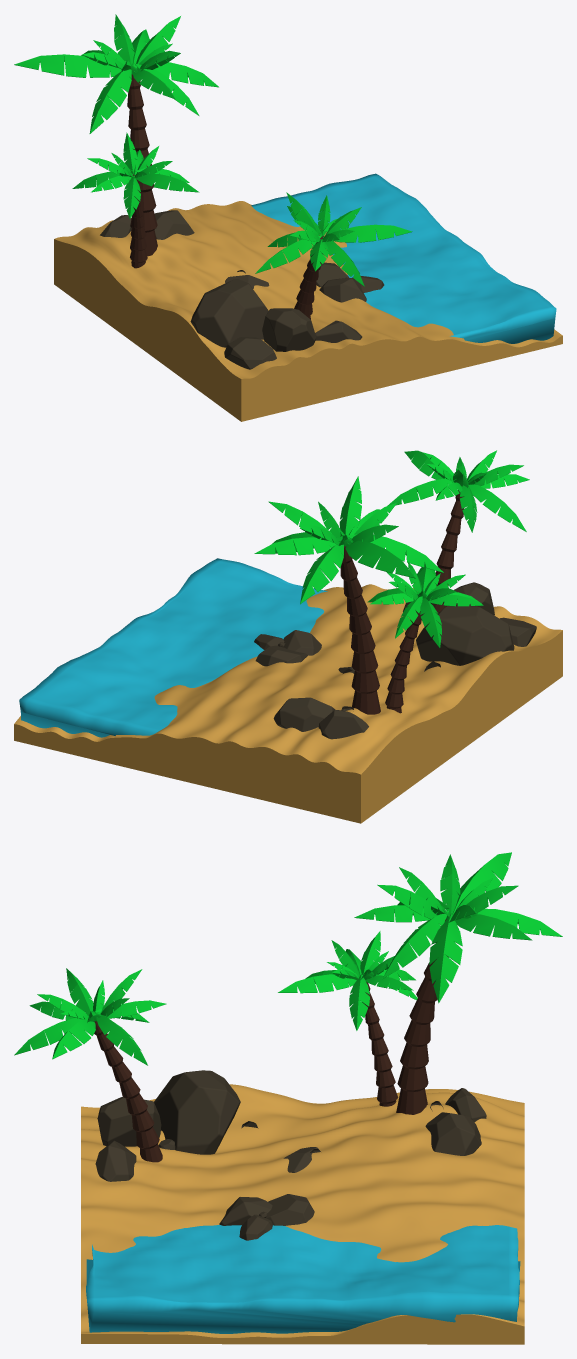
The model's file is the_beach.obj.
3 renders of one model, top to bottom at view 1: azimuth 30°, elevation 25°; view 2: azimuth 150°, elevation 25°; view 3: azimuth 270°, elevation 25°, orthographic. The views are drawn at different scales.
Parts seen in each view (by area): view 1: Plane_Material001_0, Plane001_Water_0, Cube002_Material002_0, Circle_Material003_0, Cube001_Material002_0, Plane006_Material004_0, Plane007_Material004_0, Cube_Material002_0, Plane034_Material004_0, Circle001_Material003_0, Cube012_Material002_0, Circle002_Material003_0 (+12 smaller); view 2: Plane_Material001_0, Plane001_Water_0, Cube002_Material002_0, Circle_Material003_0, Cube012_Material002_0, Circle001_Material003_0, Plane006_Material004_0, Plane005_Material004_0, Circle002_Material003_0, Cube013_Material002_0, Plane004_Material004_0, Plane007_Material004_0 (+12 smaller); view 3: Plane_Material001_0, Plane001_Water_0, Cube002_Material002_0, Circle_Material003_0, Circle002_Material003_0, Cube012_Material002_0, Plane003_Material004_0, Cube001_Material002_0, Circle001_Material003_0, Plane009_Material004_0, Cube006_Material002_0, Cube009_Material002_0 (+15 smaller).
Part boxes in pixels (<box>): Plane_Material001_0: <box>54,201,562,421</box>; Plane001_Water_0: <box>251,173,556,343</box>; Cube002_Material002_0: <box>190,279,268,347</box>; Circle_Material003_0: <box>127,74,157,256</box>; Cube001_Material002_0: <box>262,308,316,351</box>; Plane006_Material004_0: <box>14,54,121,77</box>; Plane007_Material004_0: <box>89,69,131,133</box>; Cube_Material002_0: <box>224,337,276,369</box>; Plane034_Material004_0: <box>332,224,412,242</box>; Circle001_Material003_0: <box>130,174,147,268</box>; Cube012_Material002_0: <box>154,210,194,239</box>; Circle002_Material003_0: <box>294,235,324,319</box>; Plane_Material001_0: <box>14,584,562,823</box>; Plane001_Water_0: <box>19,558,327,737</box>; Cube002_Material002_0: <box>416,606,514,665</box>; Circle_Material003_0: <box>340,546,380,714</box>; Cube012_Material002_0: <box>273,697,335,731</box>; Circle001_Material003_0: <box>385,611,422,713</box>; Plane006_Material004_0: <box>345,541,415,578</box>; Plane005_Material004_0: <box>300,544,343,604</box>; Circle002_Material003_0: <box>431,490,464,613</box>; Cube013_Material002_0: <box>318,710,368,739</box>; Plane004_Material004_0: <box>254,537,336,555</box>; Plane007_Material004_0: <box>347,534,443,572</box>; Plane_Material001_0: <box>81,1084,524,1344</box>; Plane001_Water_0: <box>86,1225,520,1333</box>; Cube002_Material002_0: <box>154,1070,240,1154</box>; Circle_Material003_0: <box>396,919,448,1114</box>; Circle002_Material003_0: <box>94,1021,162,1162</box>; Cube012_Material002_0: <box>425,1112,481,1155</box>; Plane003_Material004_0: <box>429,913,462,1003</box>; Cube001_Material002_0: <box>97,1097,161,1146</box>; Circle001_Material003_0: <box>362,982,398,1106</box>; Plane009_Material004_0: <box>382,910,449,978</box>; Cube006_Material002_0: <box>95,1140,136,1181</box>; Cube009_Material002_0: <box>266,1194,314,1225</box>.
Size of the model in its own units: 8 by 5.66 by 8.71.
